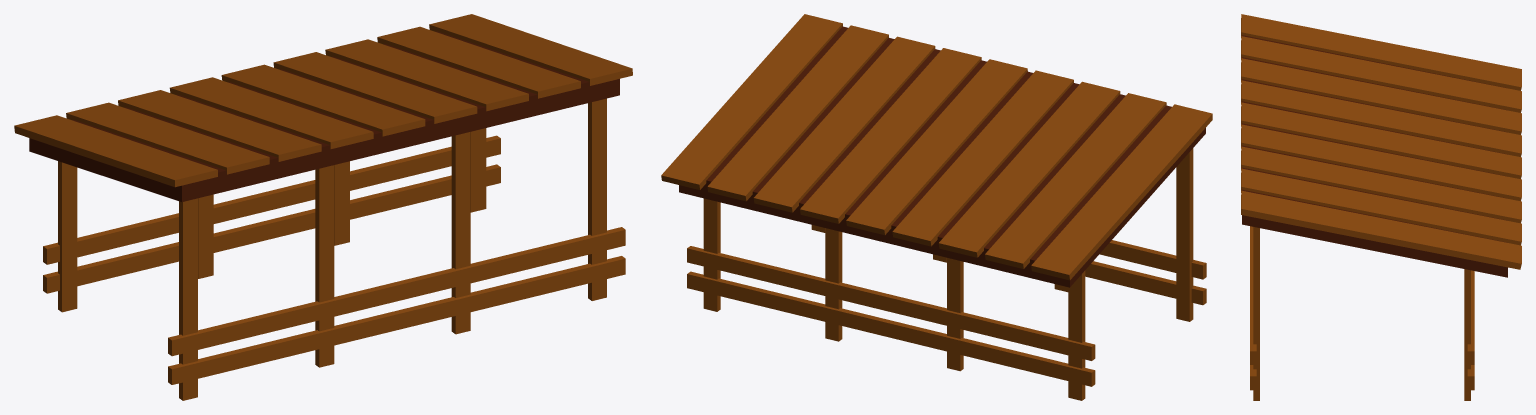
Rendered from stall.fbx.
3 renders of one model, left to right at view 1: azimuth 30°, elevation 25°; view 2: azimuth 150°, elevation 25°; view 3: azimuth 270°, elevation 25°, orthographic. The views are drawn at different scales.
Parts seen in each view (by area): view 1: stall; view 2: stall; view 3: stall.
Boxes of the visible parts, x1,y1,x2,y2 form: stall: (14,14,632,400); stall: (661,14,1212,400); stall: (1241,14,1521,400).
Size of the model in its own units: 2682 by 1285 by 1633.
